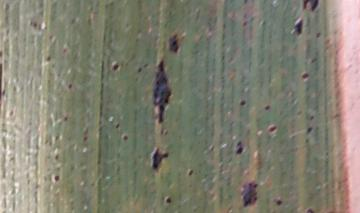tarspot: (150, 56, 173, 126), (239, 179, 260, 208), (147, 146, 172, 170), (166, 32, 183, 55), (298, 1, 323, 13), (292, 17, 305, 38), (233, 139, 245, 158), (184, 166, 196, 180), (261, 100, 272, 114), (41, 52, 55, 63), (110, 61, 122, 73), (267, 124, 279, 136), (302, 204, 318, 213), (133, 63, 144, 76), (304, 123, 314, 137), (61, 112, 71, 126), (162, 195, 174, 206), (64, 81, 75, 93), (312, 30, 325, 40), (237, 97, 246, 111), (51, 173, 62, 184), (120, 132, 129, 145), (299, 72, 311, 81), (273, 197, 284, 206)
